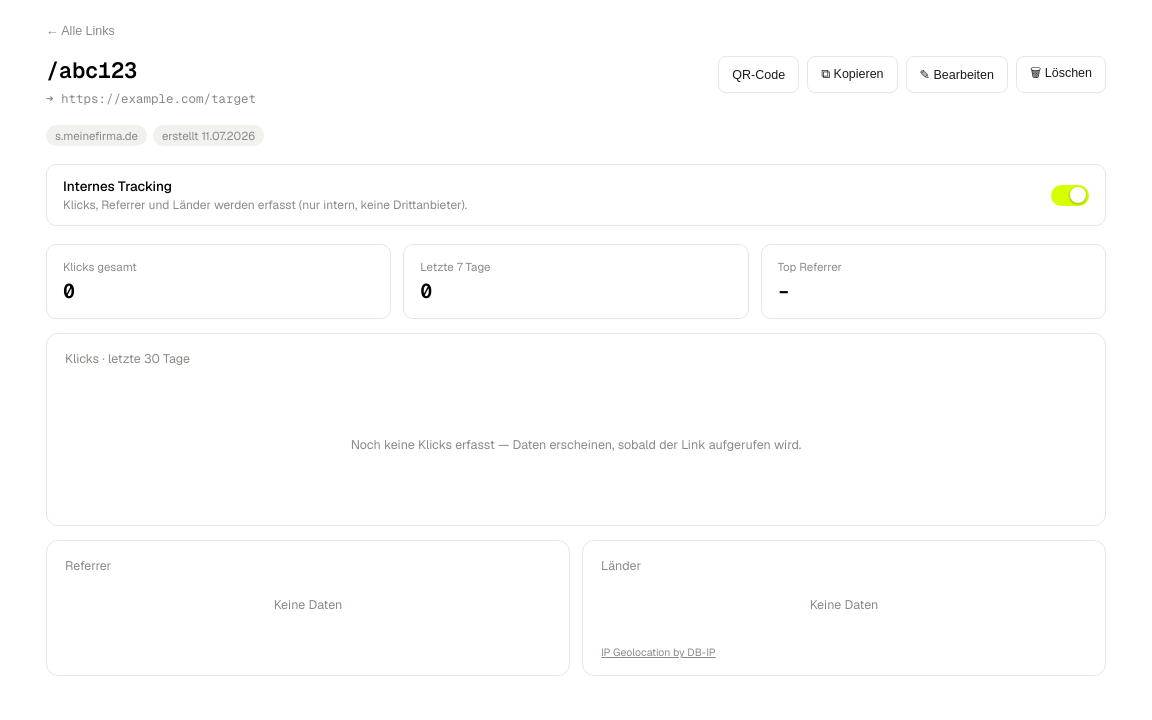
Test case: LinkDetailView › copy composes the FULL https URL and toasts 'Link kopiert'
The width and height of the screenshot is (1152, 720).
Click the button with class "action-button" showing "⧉ Kopieren". click: point(852, 74)
box: [807,56,898,93]
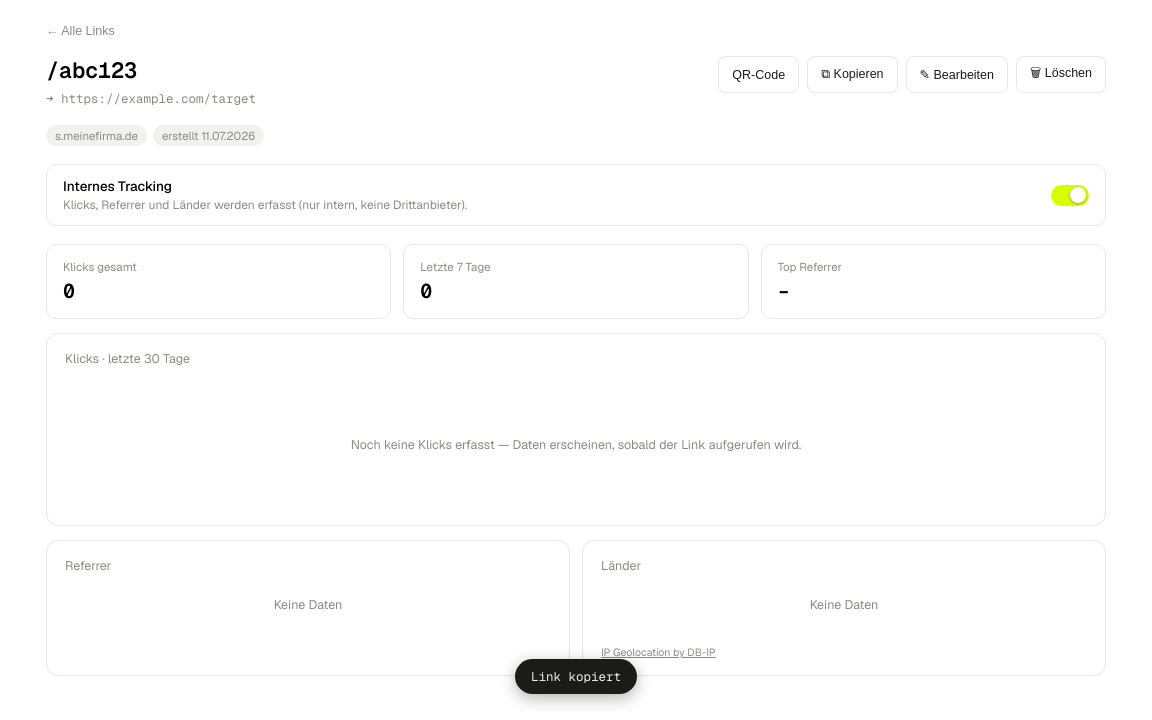
Expected: the text with class "toast" reads "Link kopiert", [531,668,621,685]
